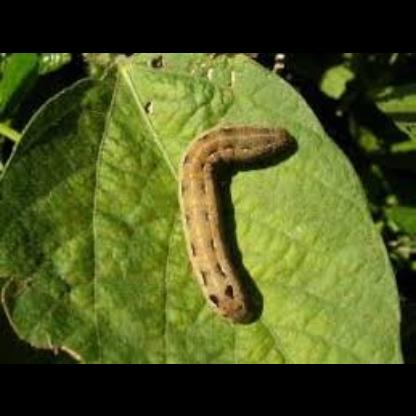agujero: (140, 94, 160, 119), (148, 58, 167, 74)
oruga: (174, 116, 296, 322)
